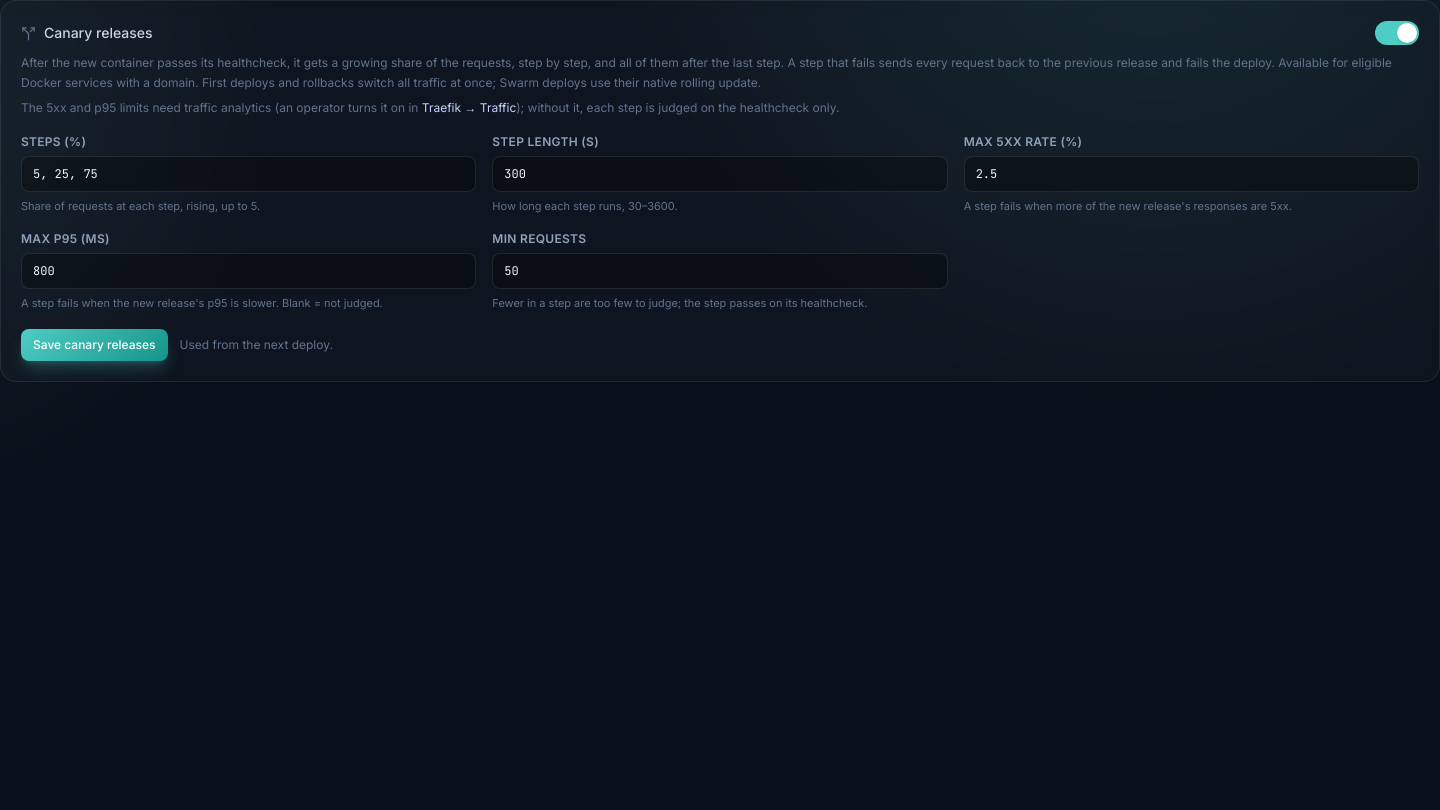
CanaryCard › shows the server's message when the save is refused, and a fallback without one
This screenshot has width=1440, height=810.
What coordinates should you click on to do the following:
click the button "Save canary releases"
I would click on:
 (94, 345)
Its box is [21,329,168,361].
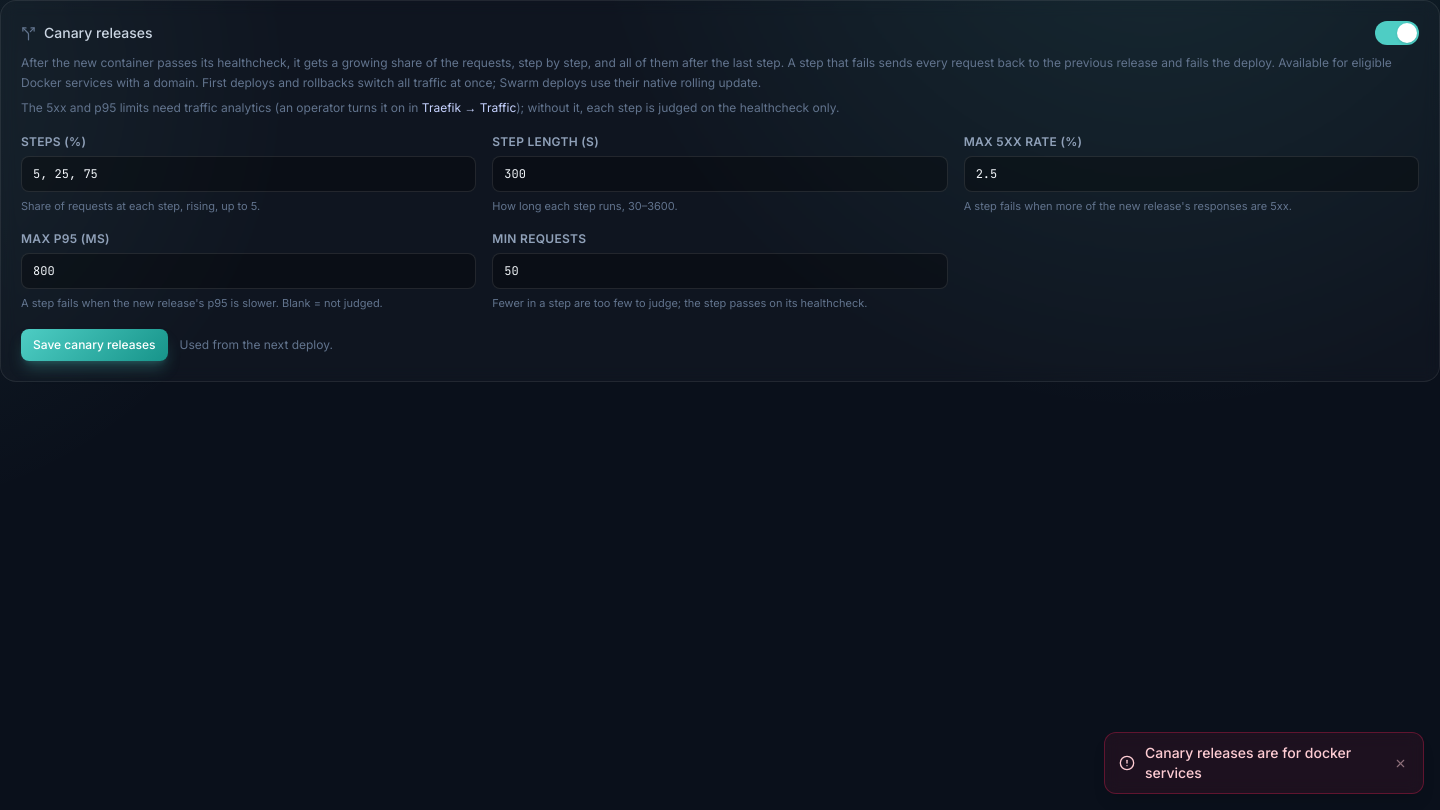
Check: the text "Canary releases are for docker services" is shown, box [1145,743,1382,783]
What coordinates should you click on to do the following:
click the button "Save canary releases"
I would click on:
 (94, 345)
Its box is [21,329,168,361].
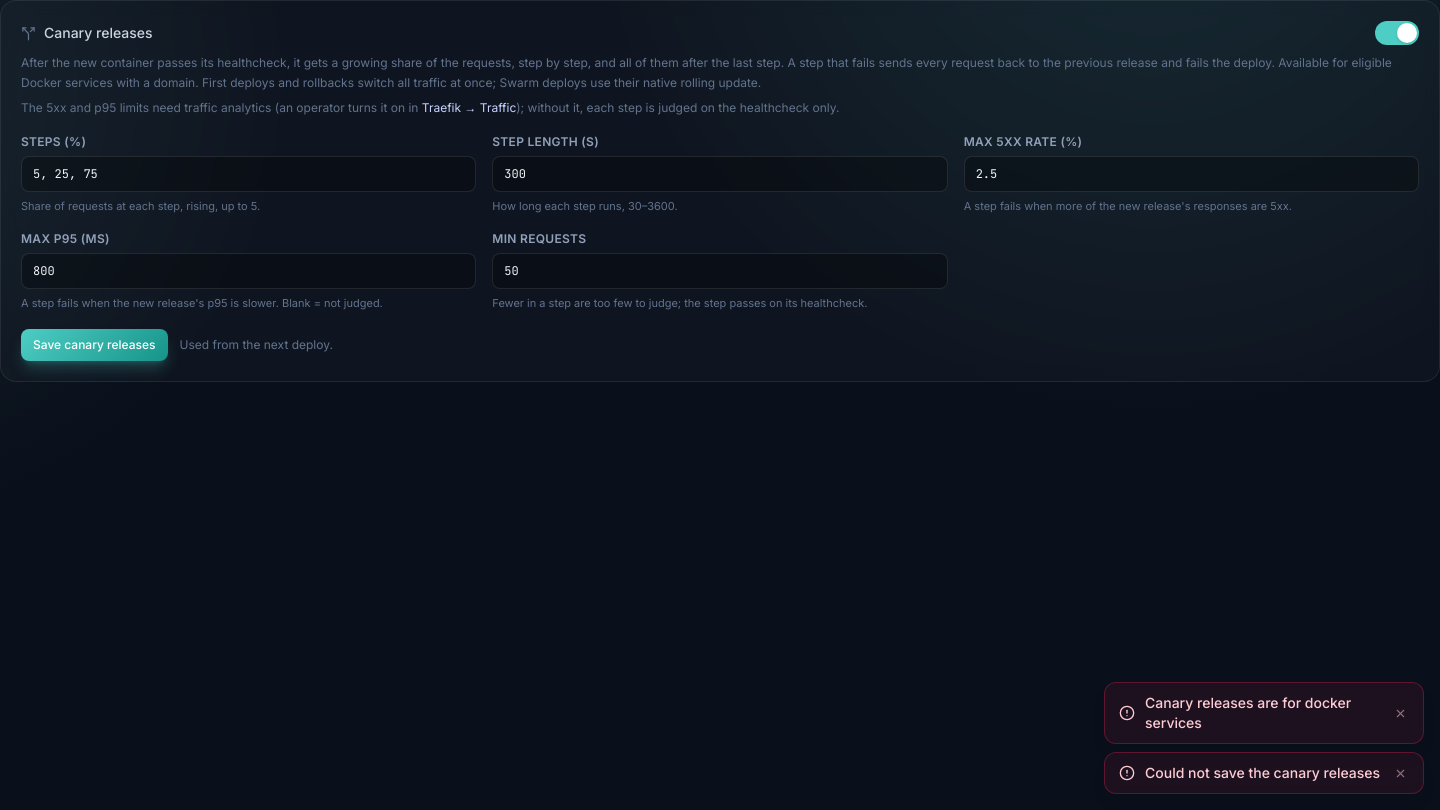
Check: the text "Could not save the canary releases" is shown, box [1145,763,1382,783]
